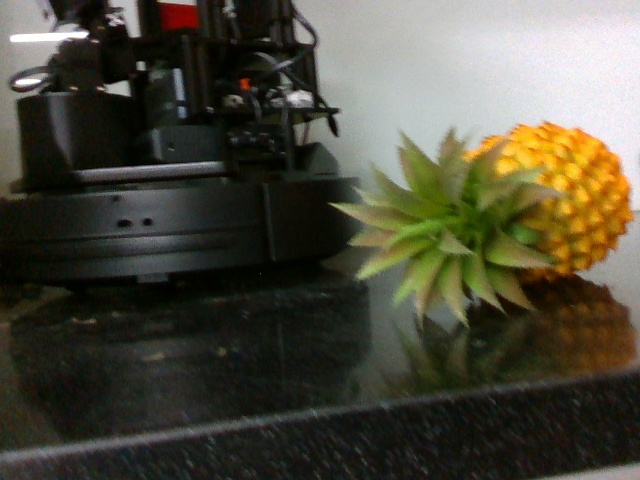pineapple: (355, 112, 638, 316)
